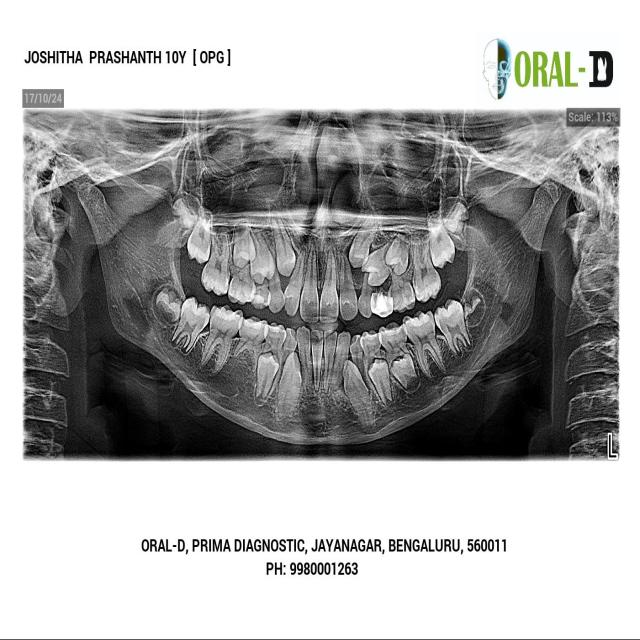Premolars: (360, 322, 383, 379)
